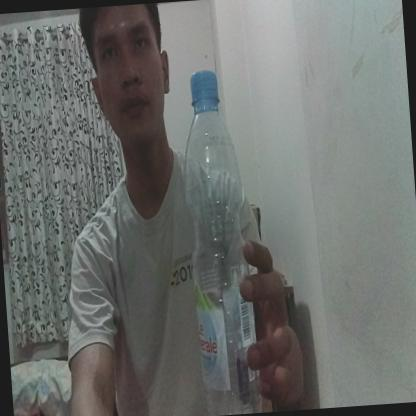plastic_bottles: (177, 66, 264, 416)
